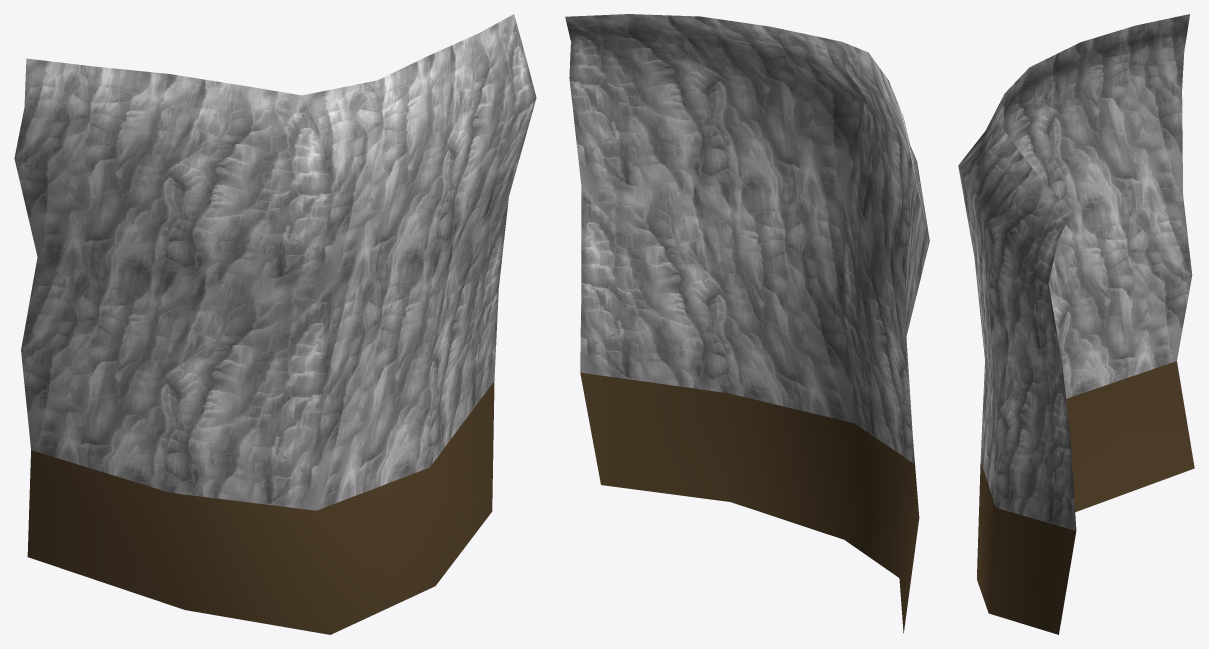
The model's file is SWORDLIGHT20_PS-AREA03_69.fbx.
3 views of the same model, side by side, from view 1: azimuth 30°, elevation 25°; view 2: azimuth 150°, elevation 25°; view 3: azimuth 270°, elevation 25° (orthographic). The views are drawn at different scales.
Parts seen in each view (by area): view 1: SWORDLIGHT20_PS-AREA03_69; view 2: SWORDLIGHT20_PS-AREA03_69; view 3: SWORDLIGHT20_PS-AREA03_69.
Boxes of the visible parts, x1,y1,x2,y2 form: SWORDLIGHT20_PS-AREA03_69: (14,14,536,634); SWORDLIGHT20_PS-AREA03_69: (565,14,929,633); SWORDLIGHT20_PS-AREA03_69: (958,14,1194,634).
Size of the model in its own units: 186562 by 216486 by 94405.
Materials: 2 (2 with a texture image).
